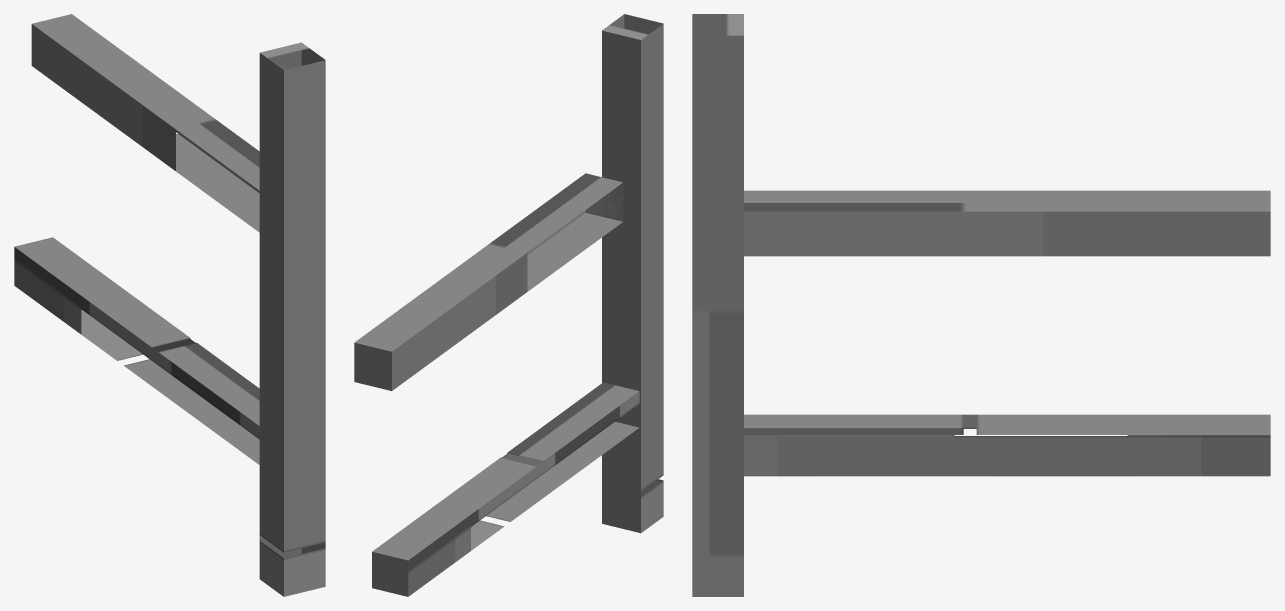
3 renders of one model, left to right at view 1: azimuth 30°, elevation 25°; view 2: azimuth 150°, elevation 25°; view 3: azimuth 270°, elevation 25°, orthographic. The views are drawn at different scales.
Bounding box in the file's own units: 0.1272 × 1.08 × 1.01.
